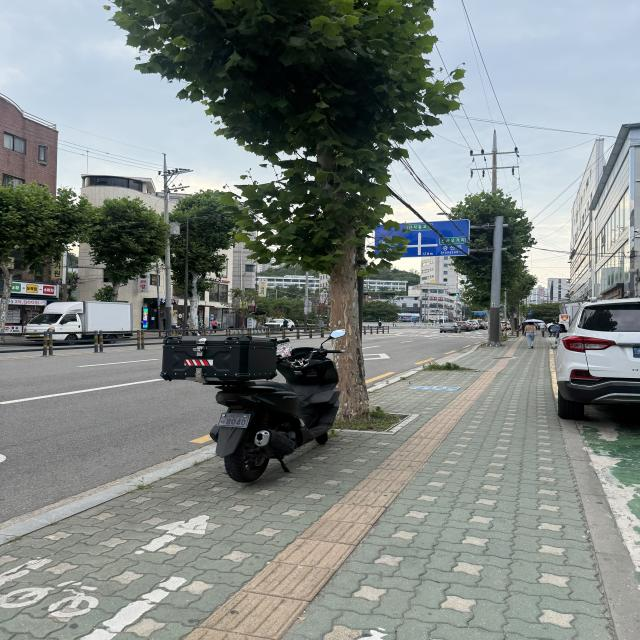motorcycle: (142, 318, 354, 507)
